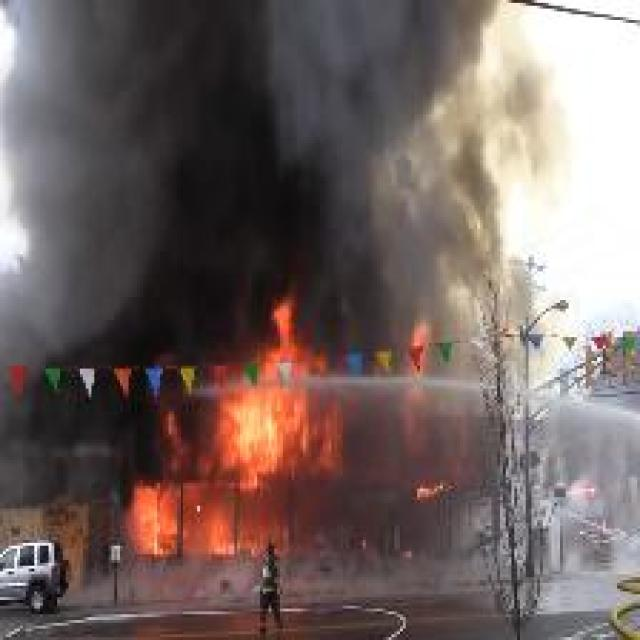fire: (124, 330, 343, 560)
smoke: (41, 15, 527, 300)
